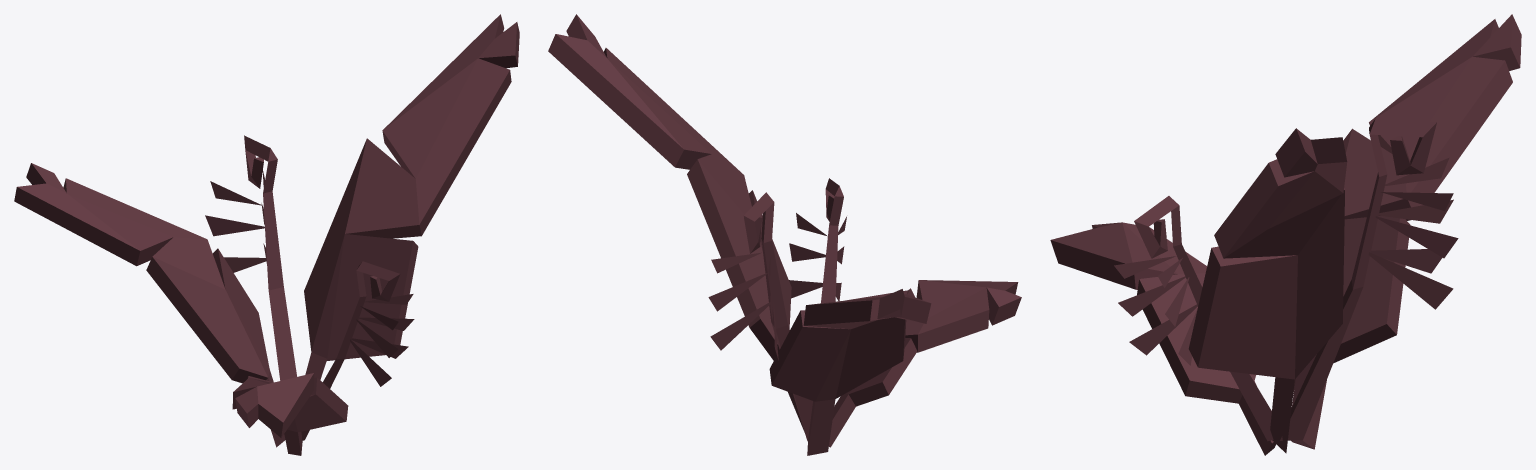
The model's file is SM_Fern_Prehistoric.fbx.
The picture shows the model from 3 angles, left to right: view 1: azimuth 30°, elevation 25°; view 2: azimuth 150°, elevation 25°; view 3: azimuth 270°, elevation 25°; orthographic projection. The views are drawn at different scales.
Parts seen in each view (by area): view 1: SM_Fern_Prehistoric; view 2: SM_Fern_Prehistoric; view 3: SM_Fern_Prehistoric.
Boxes of the visible parts, x1=… form: SM_Fern_Prehistoric: x1=14, y1=14, x2=519, y2=455; SM_Fern_Prehistoric: x1=548, y1=14, x2=1021, y2=455; SM_Fern_Prehistoric: x1=1050, y1=14, x2=1521, y2=455.
Bounding box in the file's own units: 1.81 × 1.49 × 1.36.
